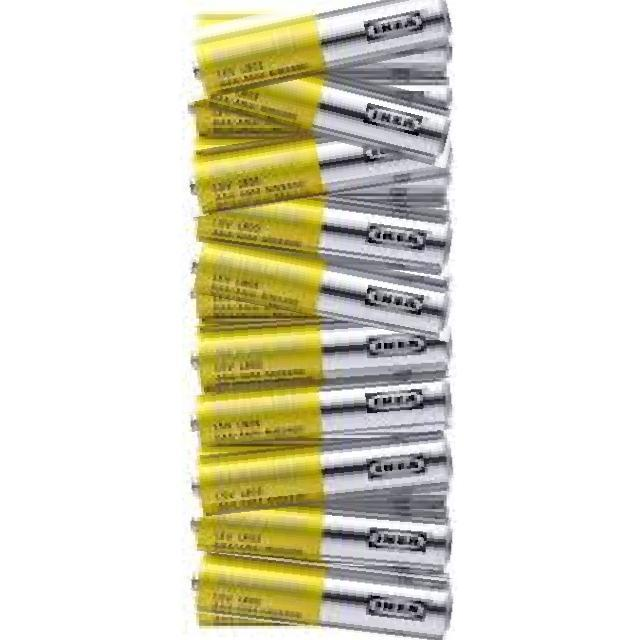Battery: (185, 0, 462, 98), (189, 247, 465, 336), (189, 553, 459, 640), (179, 428, 465, 508), (205, 78, 457, 167), (186, 319, 458, 396), (191, 502, 464, 572), (181, 376, 457, 443), (177, 146, 454, 202)
